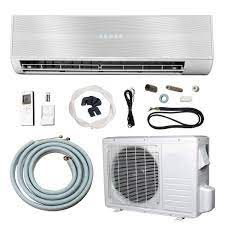ac: (7, 11, 218, 79)
